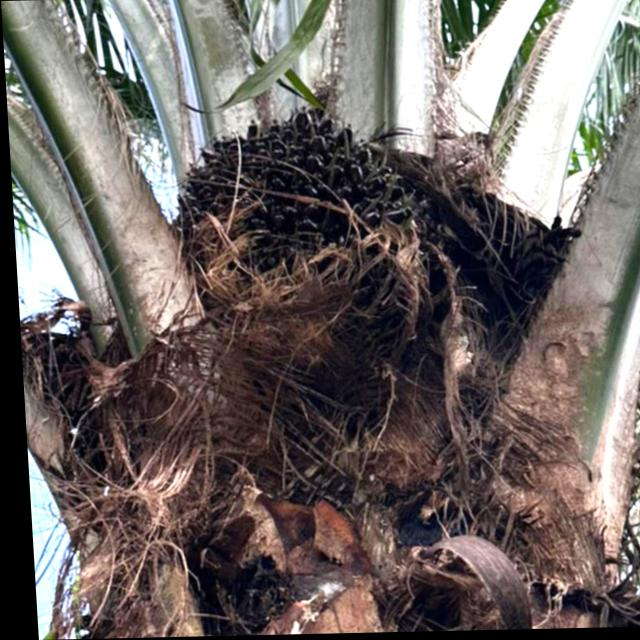almost: (152, 95, 433, 325)
